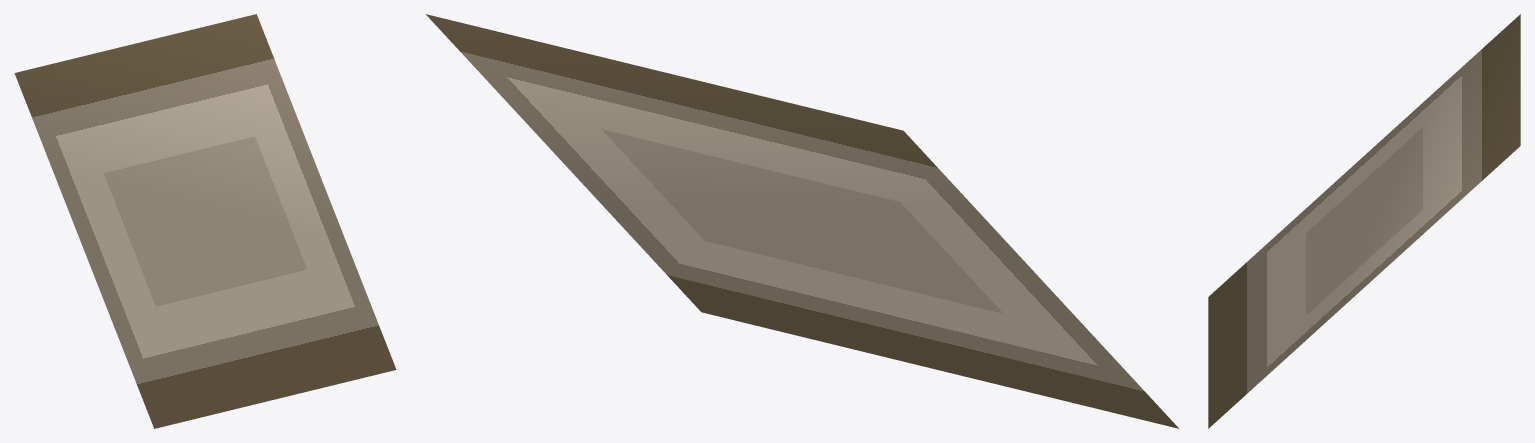
3 renders of one model, left to right at view 1: azimuth 30°, elevation 25°; view 2: azimuth 150°, elevation 25°; view 3: azimuth 270°, elevation 25°, orthographic. The views are drawn at different scales.
Bounding box in the file's own units: 1 × 1 × 1.
1 material, 1 textured.
